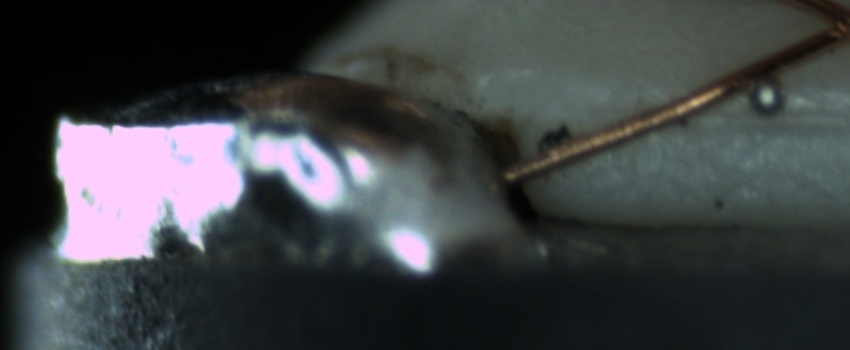CL: (797, 2, 850, 57)
DL: (626, 83, 843, 155)
